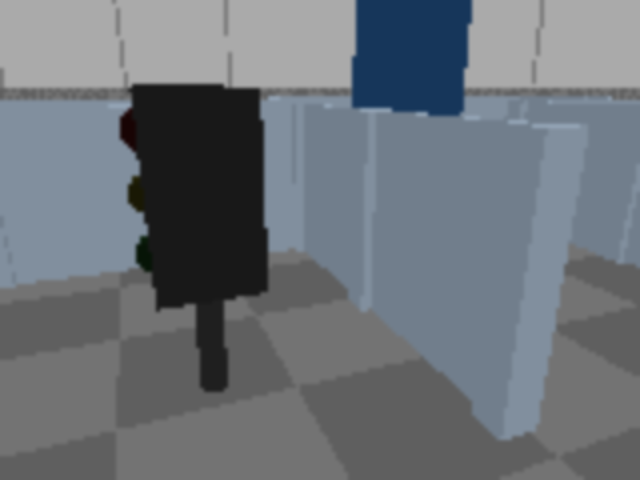traffic_light: (127, 65, 273, 426)
